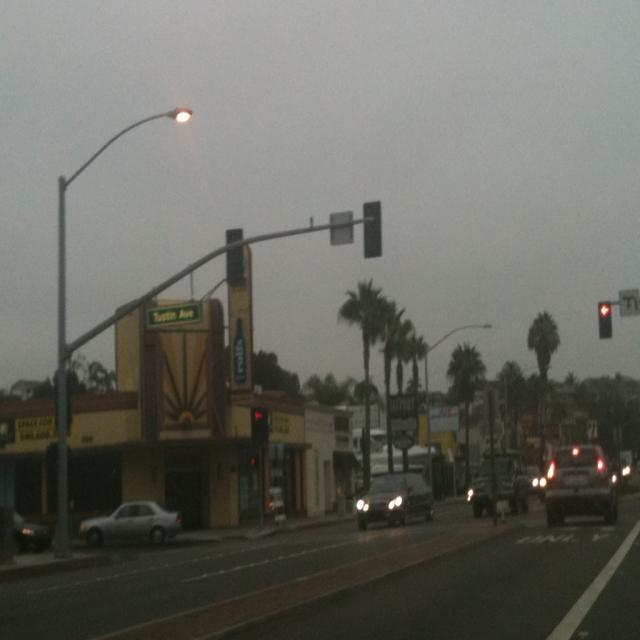traffic light: (251, 408, 268, 441), (597, 301, 612, 338)
